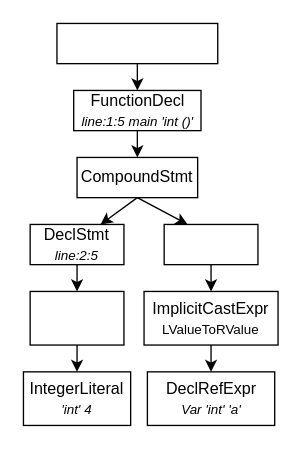
The diagram is 302 pixels wide and 449 high, and some of its shapes have lost their labels. Here are the shapes that lost their labels. From the top down, the centre of each, then its label:
At pixel 137 43: "TranslationUnitDecl".
At pixel 210 244: "ReturnStmt line:3:5".
At pixel 76 317: "VarDecl a 'int' cinit".
